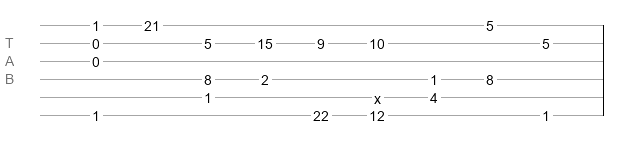0: (92, 54, 100, 64), (92, 36, 100, 46)
1: (92, 108, 100, 118), (92, 18, 100, 28), (204, 90, 212, 100), (430, 72, 438, 82), (542, 108, 550, 118)
10: (369, 36, 385, 46)
12: (369, 108, 385, 118)
15: (257, 36, 273, 46)
2: (261, 72, 269, 82)
21: (144, 18, 160, 28)
22: (313, 108, 329, 118)
4: (430, 90, 438, 100)
5: (204, 36, 212, 46), (486, 18, 494, 28), (542, 36, 550, 46)
8: (204, 72, 212, 82), (486, 72, 494, 82)
9: (317, 36, 325, 46)
x: (374, 91, 381, 99)
